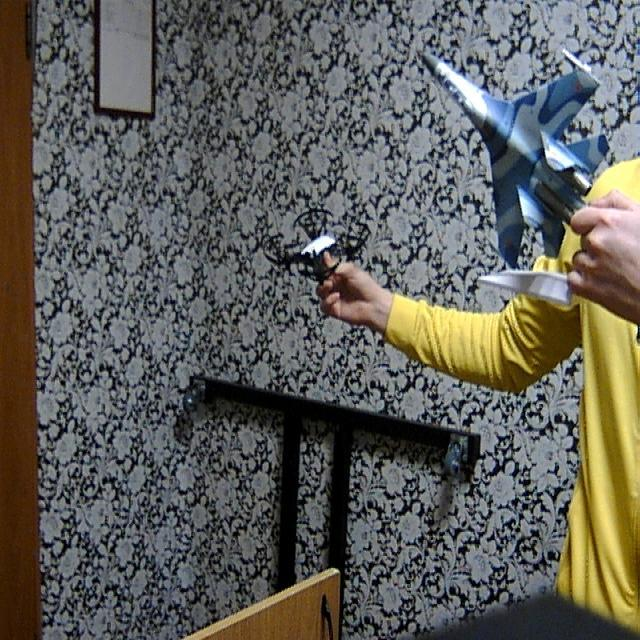drones: (249, 186, 397, 304)
